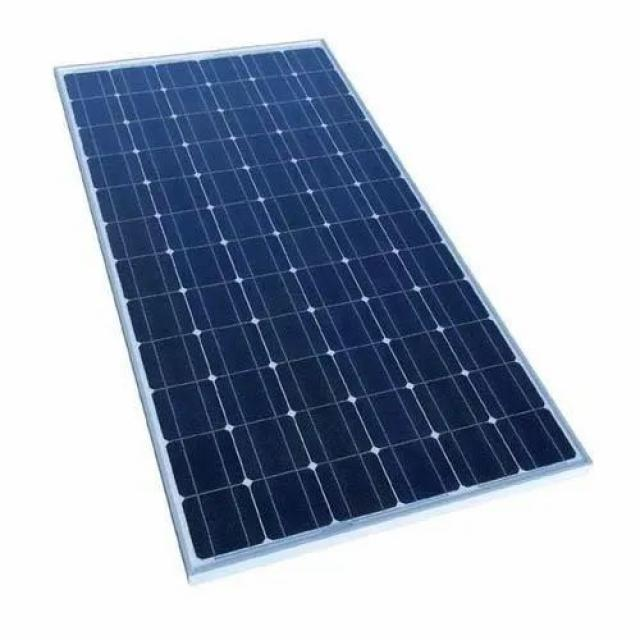clean-solar-panel: (58, 41, 589, 575)
